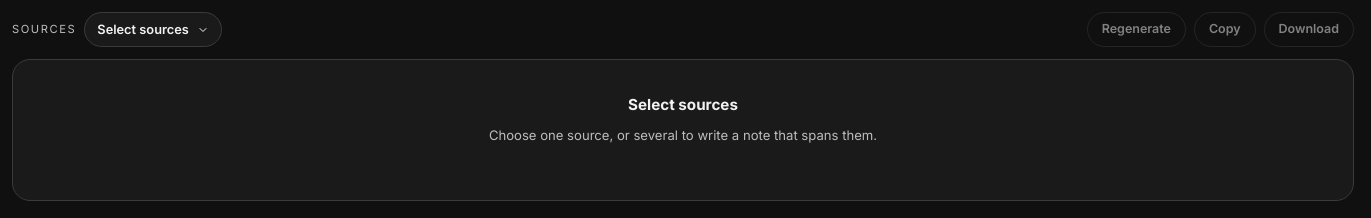
Scenario: NotePanel source selection › handles a project with no sources at all
Click the button "Select sources": {"x": 153, "y": 30} [84,12,222,47]
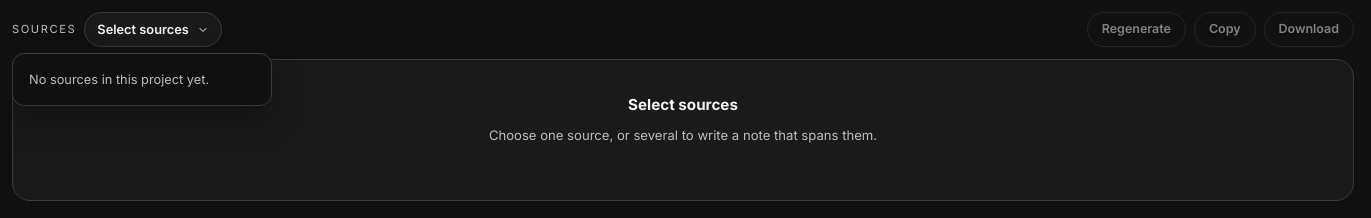
Now the text "No sources in this project yet." is shown, box [29,72,209,87]
